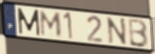1: (62, 12, 74, 41)
2: (85, 14, 104, 44)
B: (128, 18, 150, 49)
M: (16, 6, 41, 37), (40, 10, 63, 38)
N: (106, 16, 129, 47)
